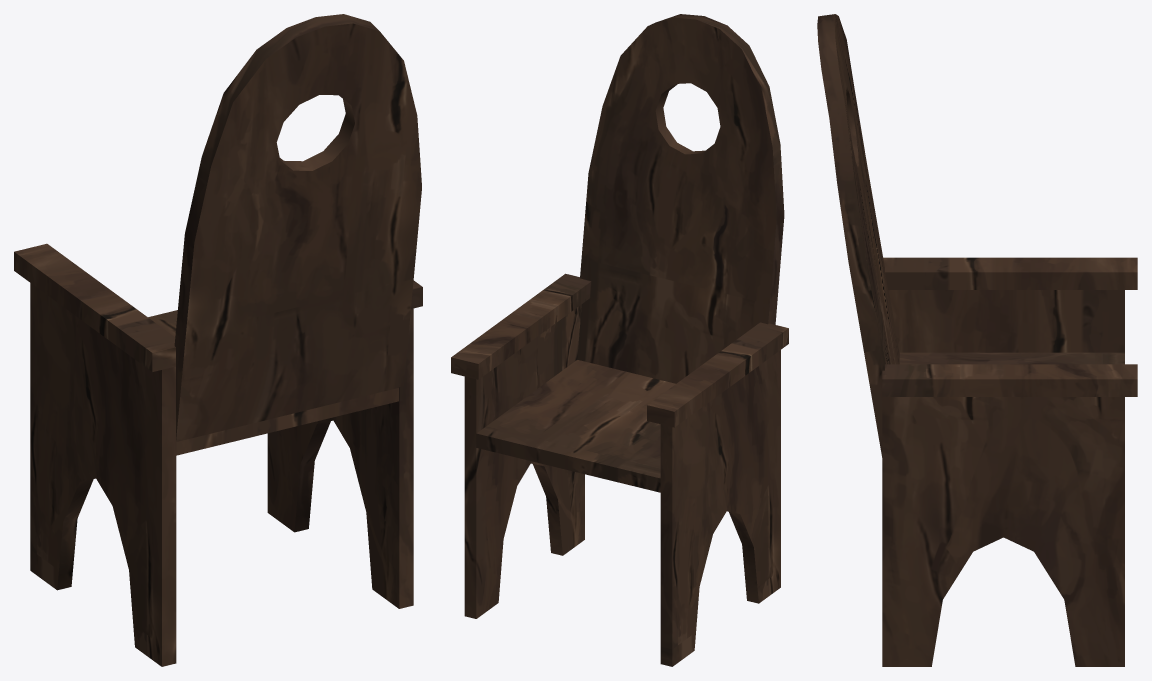
File: Chair.fbx
The picture shows the model from 3 angles, left to right: view 1: azimuth 30°, elevation 25°; view 2: azimuth 150°, elevation 25°; view 3: azimuth 270°, elevation 25°; orthographic projection. The views are drawn at different scales.
Visible parts, largest first — view 1: Chair; view 2: Chair; view 3: Chair.
Part boxes in pixels (left/top/right/bottom): Chair: left=14, top=14, right=422, bottom=666; Chair: left=451, top=14, right=788, bottom=666; Chair: left=817, top=14, right=1137, bottom=666.
Bounding box in the file's own units: 0.7485 × 1.69 × 0.8321.
